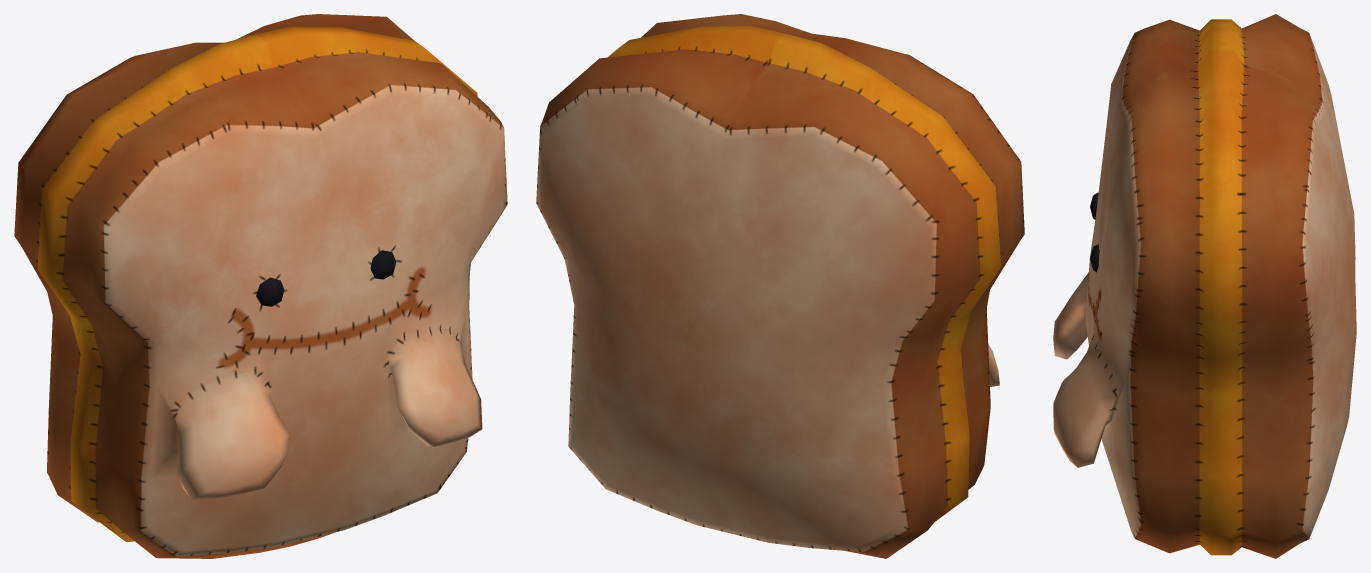
Rendered from BreadPlush.fbx.
3 renders of one model, left to right at view 1: azimuth 30°, elevation 25°; view 2: azimuth 150°, elevation 25°; view 3: azimuth 270°, elevation 25°, orthographic. The views are drawn at different scales.
Parts seen in each view (by area): view 1: BreadPlush; view 2: BreadPlush; view 3: BreadPlush.
Part boxes in pixels (box(x1,y1,x2,y2)): BreadPlush: box(14, 14, 507, 558); BreadPlush: box(536, 14, 1024, 558); BreadPlush: box(1053, 14, 1356, 558).
Bounding box in the file's own units: 1.12 × 1.2 × 0.7171.
Materials: 1 (1 with a texture image).
